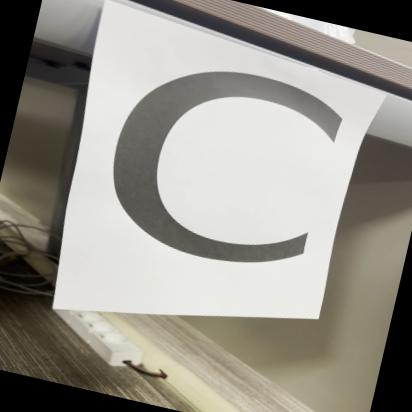seat: (51, 20, 380, 323)
